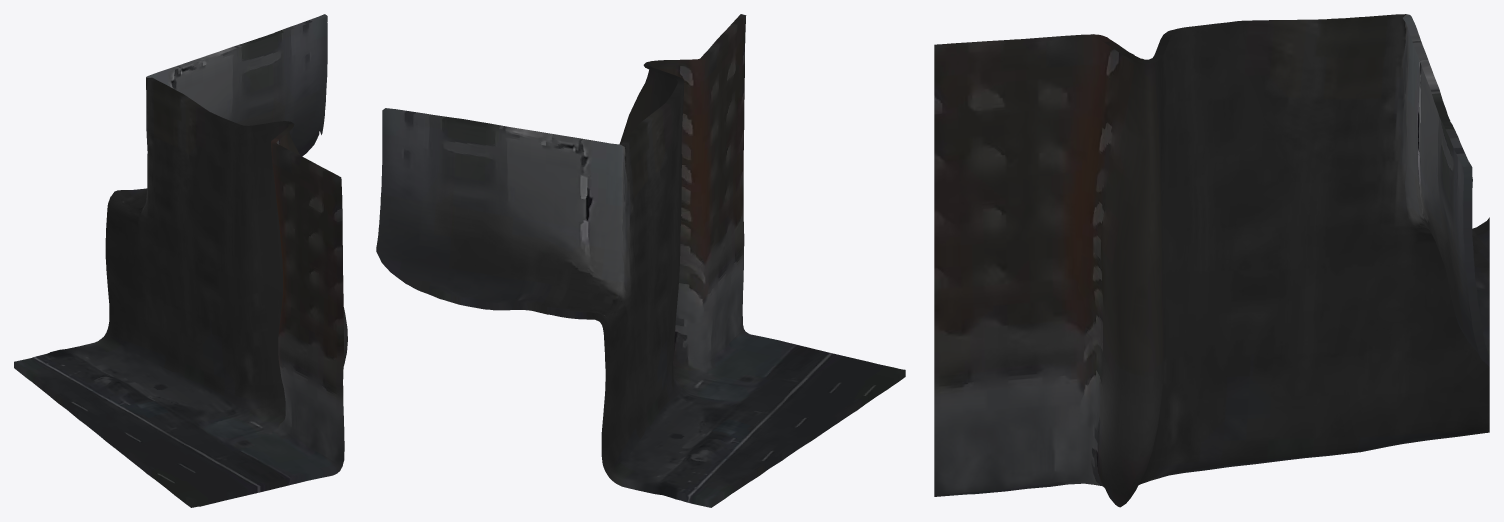
File: z20-167764-405240-h0-yup-uvflip-v3-world.glb
3 renders of one model, left to right at view 1: azimuth 30°, elevation 25°; view 2: azimuth 150°, elevation 25°; view 3: azimuth 270°, elevation 25°, orthographic. The views are drawn at different scales.
Bounding box in the file's own units: 30.16 × 27.96 × 30.32.
Materials: 1 (1 with a texture image).
